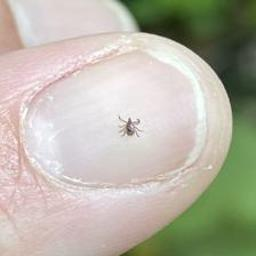Ixodes scapularis: (116, 116, 143, 138)
